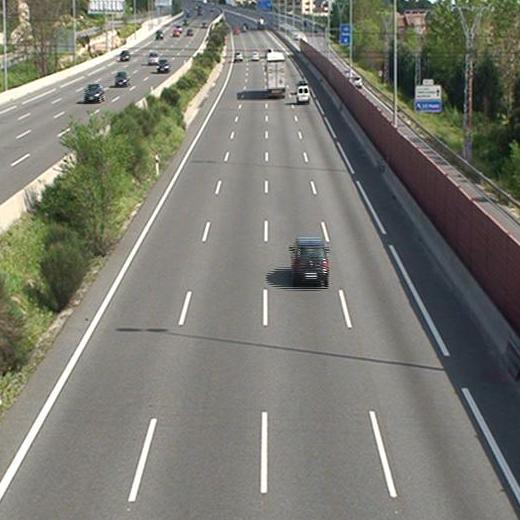car: (289, 237, 329, 285)
truck: (265, 50, 286, 98)
van: (297, 85, 309, 104)
